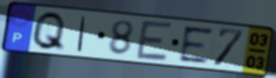7: (213, 27, 245, 68)
8: (108, 19, 136, 57)
E: (134, 19, 175, 64), (179, 25, 216, 65)
I: (75, 14, 88, 53)
Q: (30, 10, 68, 53)
